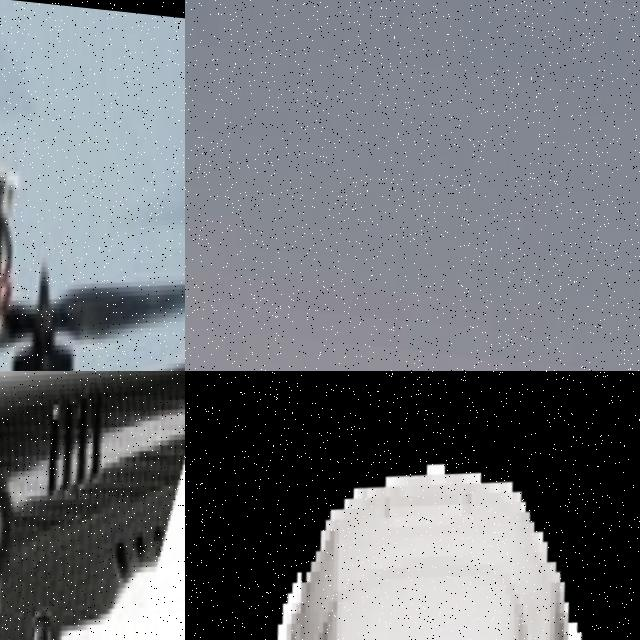drone: (185, 371, 640, 640), (0, 0, 185, 371), (0, 371, 185, 640)
